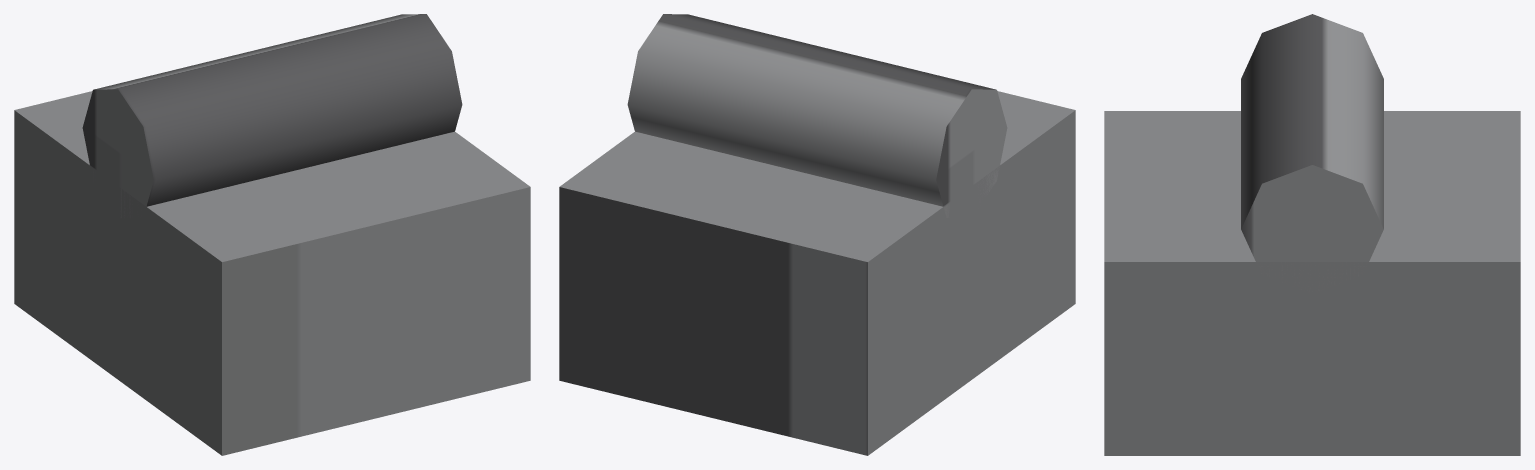
The picture shows the model from 3 angles, left to right: view 1: azimuth 30°, elevation 25°; view 2: azimuth 150°, elevation 25°; view 3: azimuth 270°, elevation 25°; orthographic projection.
Bounding box in the file's own units: 0.03 × 0.027 × 0.035.
